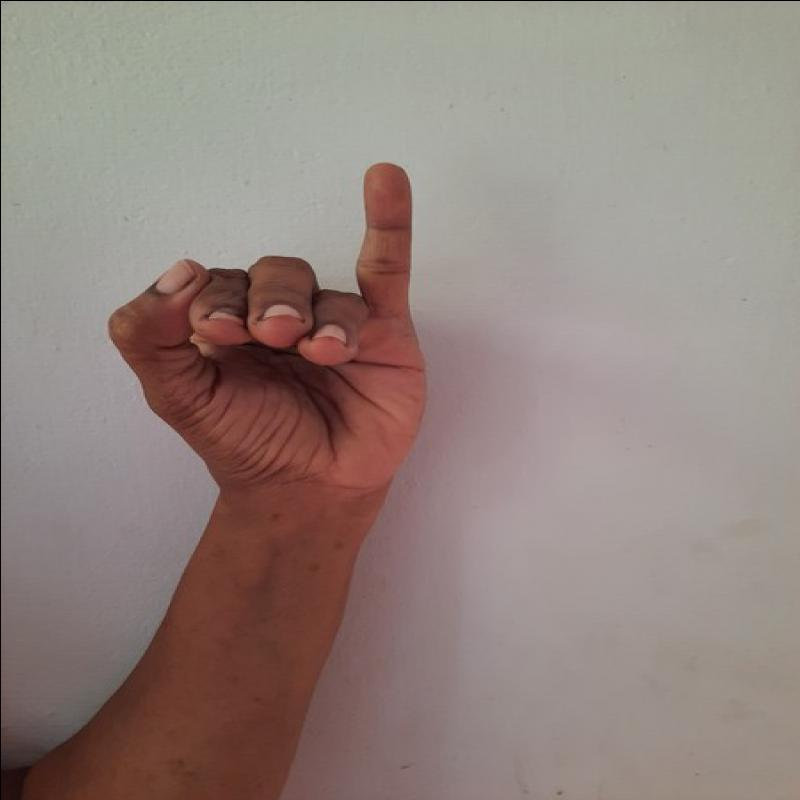Kartharee Mukham: (103, 151, 449, 502)
